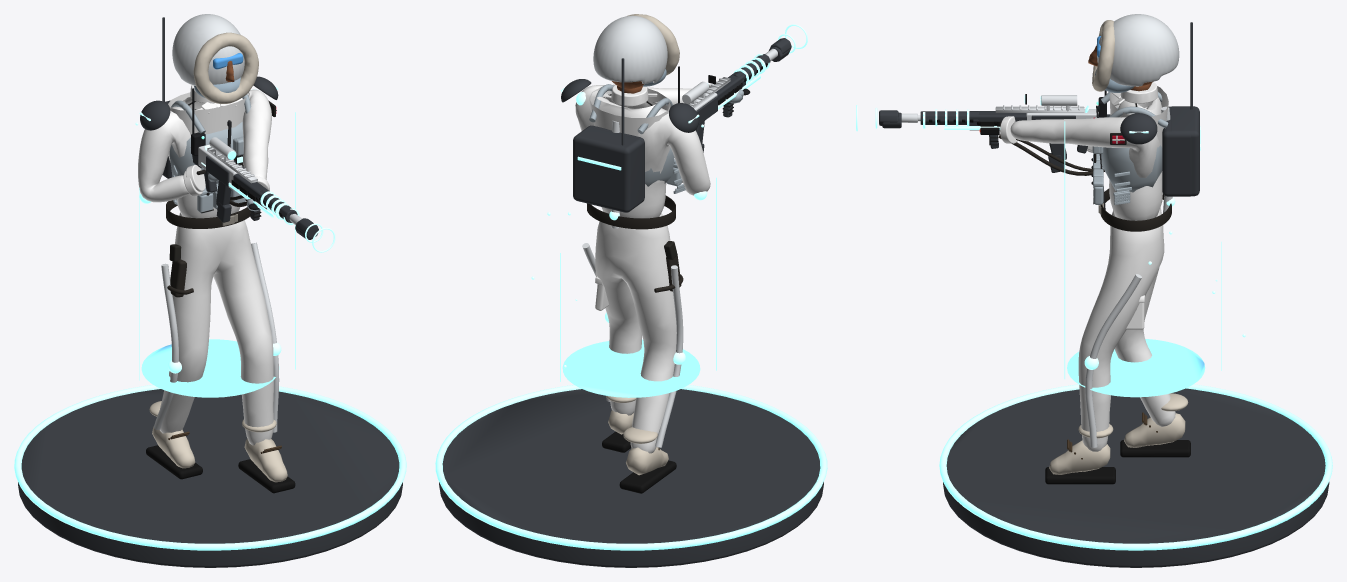
The model's file is vagt_arktis.glb.
3 renders of one model, left to right at view 1: azimuth 30°, elevation 25°; view 2: azimuth 150°, elevation 25°; view 3: azimuth 270°, elevation 25°, orthographic.
Parts seen in each view (by area): view 1: fod_net, menneske_net, overkrop_net, hoved_net, op4_net, op1_net, op4.001_net, op1.002_net, vaaben_net, op3_net, op4.003_net, op3.001_net (+1 smaller); view 2: fod_net, menneske_net, overkrop_net, op4.002_net, hoved_net, op4_net, op1.002_net, op4.001_net, op3_net, op1_net, op4.003_net, vaaben_net (+2 smaller); view 3: fod_net, menneske_net, overkrop_net, hoved_net, op4_net, op1_net, ned4_net, vaaben_net, op4.002_net, op4.001_net, op1.001_net, op3_net (+3 smaller).
Part boxes in pixels (left/top/right/bottom): fod_net: left=14, top=384, right=406, bottom=567; menneske_net: left=146, top=210, right=295, bottom=493; overkrop_net: left=138, top=85, right=276, bottom=218; hoved_net: left=172, top=14, right=258, bottom=103; op4_net: left=135, top=112, right=295, bottom=397; op1_net: left=169, top=88, right=251, bottom=213; op4.001_net: left=153, top=242, right=281, bottom=432; op1.002_net: left=166, top=199, right=250, bottom=297; vaaben_net: left=192, top=144, right=301, bottom=225; op3_net: left=139, top=17, right=278, bottom=130; op4.003_net: left=228, top=182, right=335, bottom=252; op3.001_net: left=204, top=144, right=297, bottom=222; fod_net: left=435, top=385, right=827, bottom=567; menneske_net: left=595, top=213, right=676, bottom=493; overkrop_net: left=575, top=84, right=750, bottom=218; op4.002_net: left=573, top=92, right=707, bottom=228; hoved_net: left=593, top=14, right=679, bottom=89; op4_net: left=531, top=124, right=716, bottom=397; op1.002_net: left=587, top=195, right=683, bottom=292; op4.001_net: left=582, top=243, right=685, bottom=447; op3_net: left=561, top=58, right=699, bottom=145; op1_net: left=589, top=66, right=682, bottom=186; op4.003_net: left=718, top=24, right=807, bottom=109; vaaben_net: left=688, top=48, right=777, bottom=110; fod_net: left=939, top=384, right=1332, bottom=567; menneske_net: left=1045, top=207, right=1190, bottom=484; overkrop_net: left=999, top=82, right=1168, bottom=220; hoved_net: left=1088, top=14, right=1179, bottom=92; op4_net: left=1064, top=121, right=1245, bottom=397; op1_net: left=1087, top=90, right=1168, bottom=204; ned4_net: left=1114, top=106, right=1192, bottom=202; vaaben_net: left=901, top=105, right=1109, bottom=153; op4.002_net: left=1114, top=106, right=1200, bottom=213; op4.001_net: left=1084, top=274, right=1141, bottom=447; op1.001_net: left=980, top=95, right=1104, bottom=175; op3_net: left=1120, top=22, right=1192, bottom=144.
Bounding box in the file's own units: 1.94 × 2.56 × 2.35.
